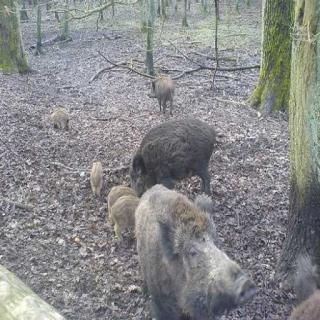Pig: (118, 171, 258, 320), (96, 100, 242, 194)
